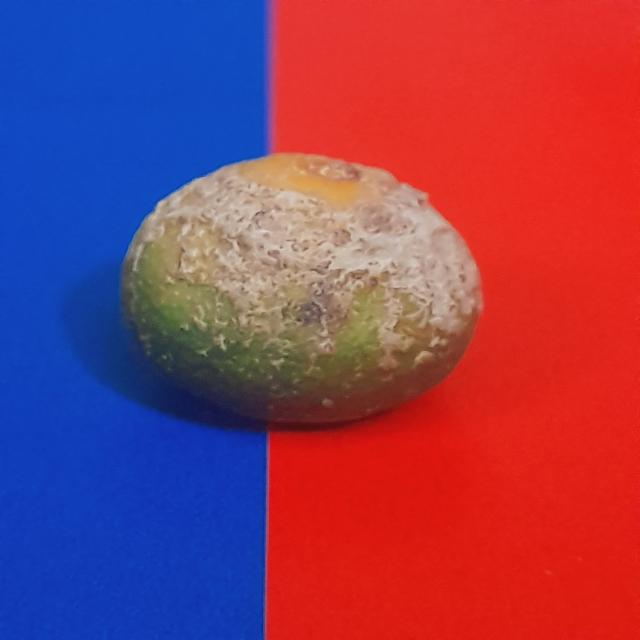thrips: (88, 136, 502, 438)
